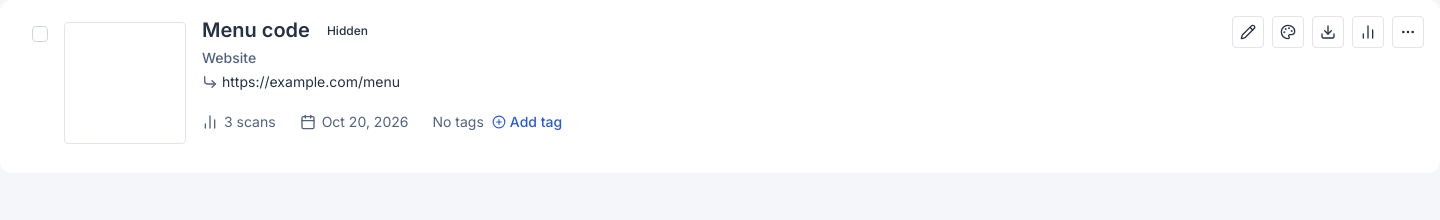
Test: QrCard › offers Show code for hidden codes and download formats
Click the button named "More". click: (1408, 32)
box: [1392,16,1424,48]
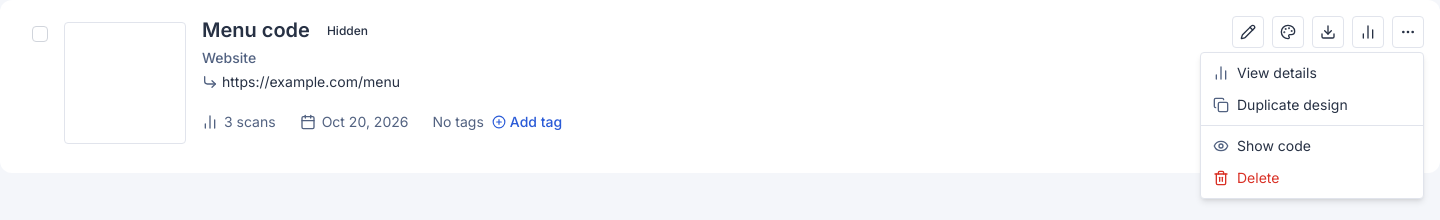
expect the menu item "Show code" is shown: met, box [1213,137,1311,154]
Press Escape
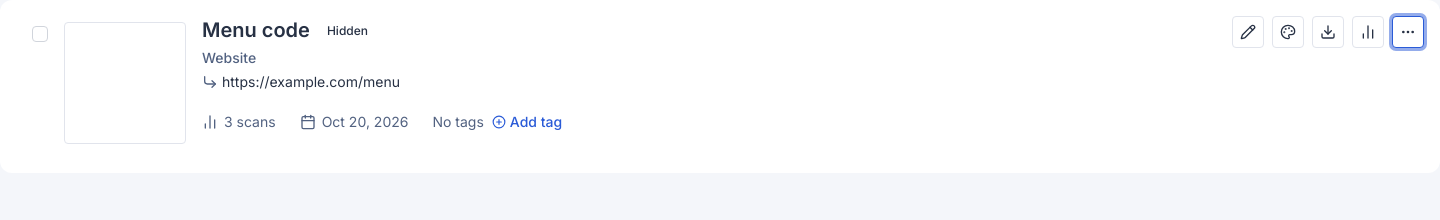
Click the button named "Download". click: (1328, 32)
box: [1312,16,1344,48]
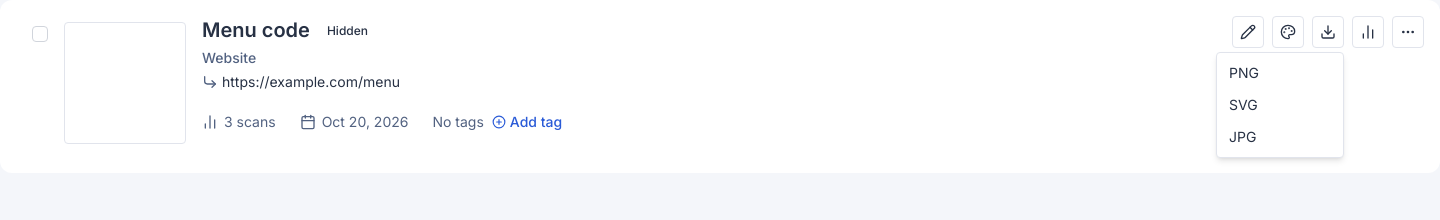
expect the menu items read "PNG", "SVG", "JPG", in this order: met, box [1229,64,1259,81]; [1229,96,1258,113]; [1229,128,1256,145]
